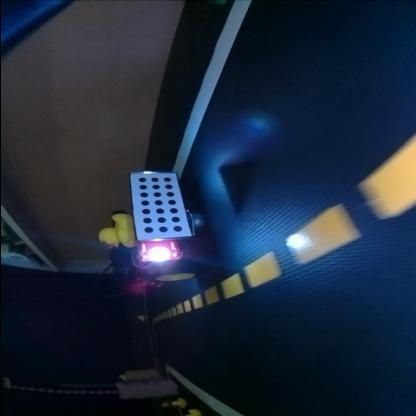Duckie: (96, 214, 132, 248), (170, 399, 184, 409), (185, 410, 200, 415), (135, 316, 144, 322), (118, 375, 126, 381), (159, 402, 167, 408)
Duckiebot: (110, 181, 195, 288)
